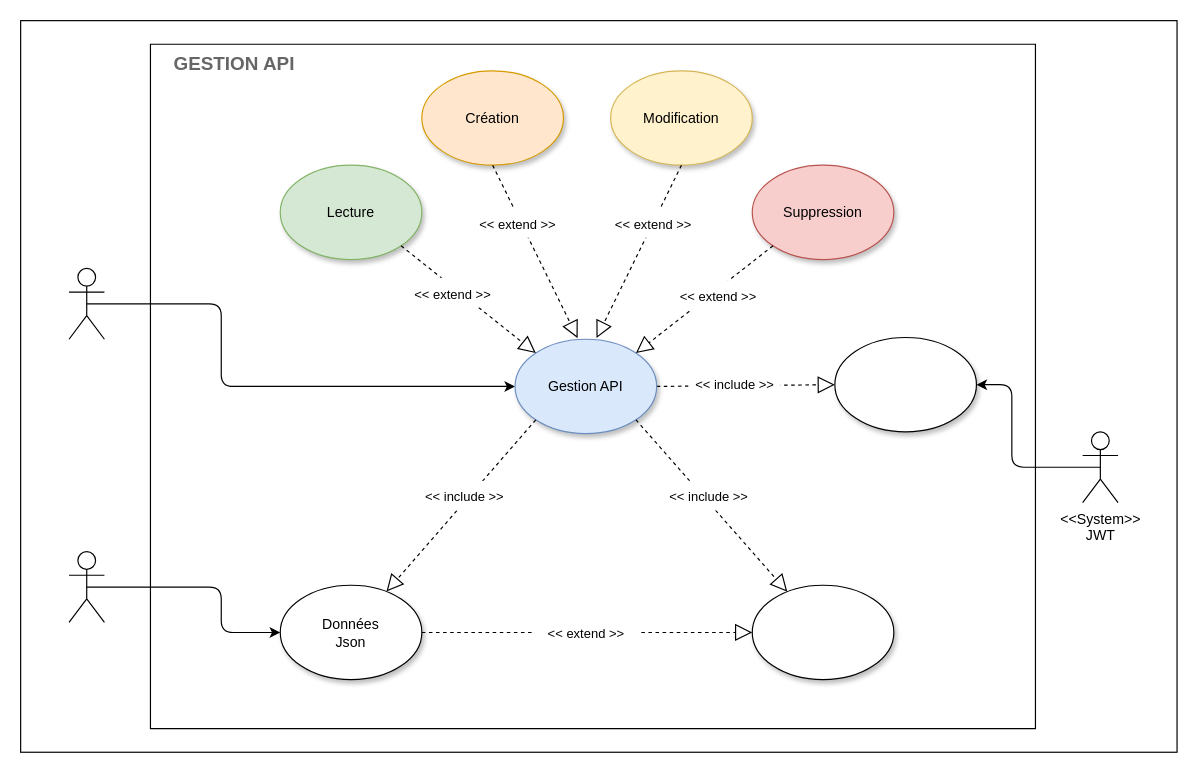
Some shapes in this 1198 by 773 pixel diagram are drawn without their labels. The centre of each missing label's shape, as x and y in pixels:
<<System>> Database: the point at 86,586
Admin: the point at 86,303
Authentification: the point at 823,633
Token: the point at 906,386
